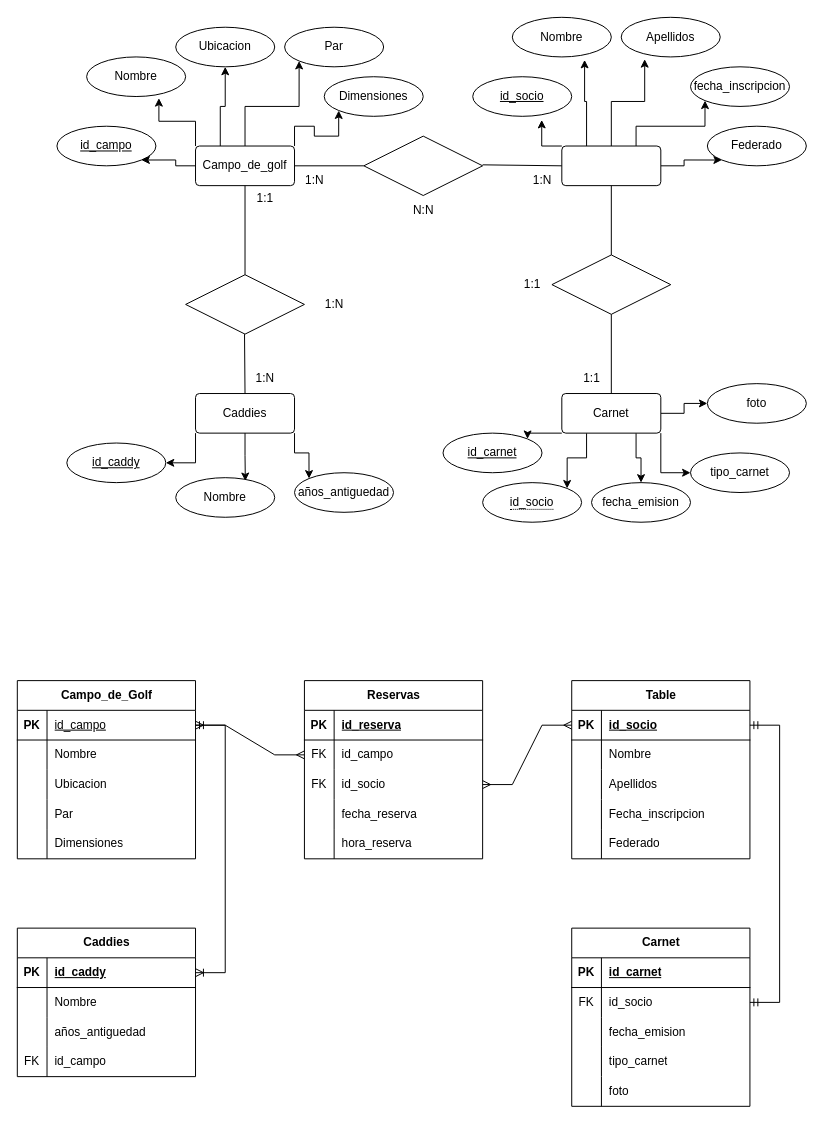
The diagram is 824 pixels wide and 1124 high, and some of its shapes have lost their labels. The centre of each missing label's shape, as x and y in pixels:
Asignado: the point at 244,304
Dispone: the point at 611,284
Reservar: the point at 423,165
Socio: the point at 611,165
